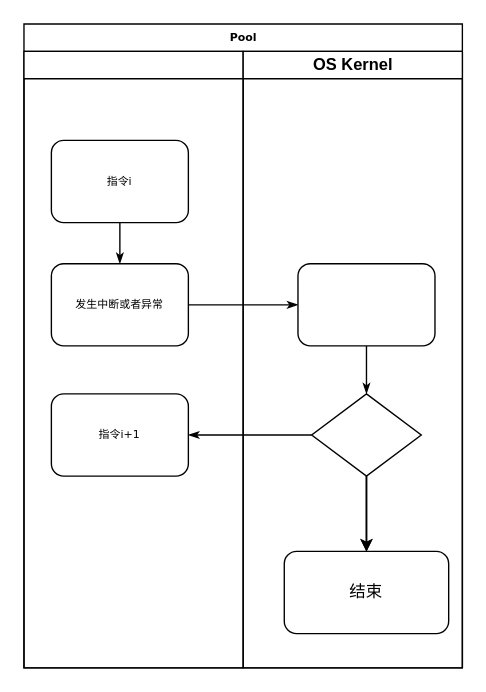
Image size: 486x692. Some labels were removed from this diagram. Here are the shapes that lost their labels. From the top down, the box of each, then its label:
(297, 262, 435, 346): 中断或者异常处理程序
(23, 50, 243, 668): CPU
(310, 393, 421, 476): 是否可以Handle？
